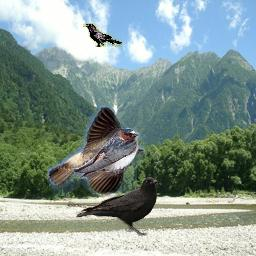Crow: (76, 177, 158, 236), (83, 23, 122, 47)
Swallow: (47, 105, 147, 196), (74, 128, 138, 179)
